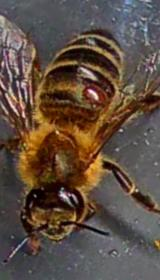varroa_mite: (79, 77, 111, 115)
